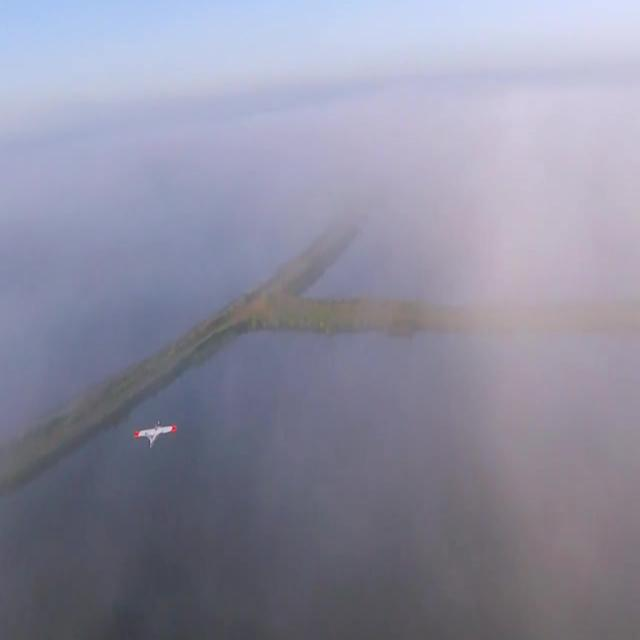iha: (135, 419, 177, 451)
